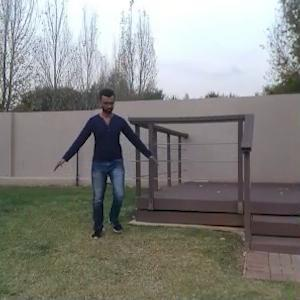land: (59, 77, 164, 258)
